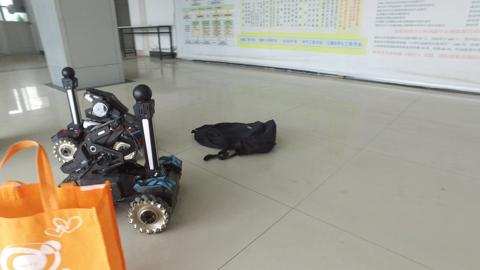chariot: (63, 86, 184, 232), (49, 68, 125, 157)
